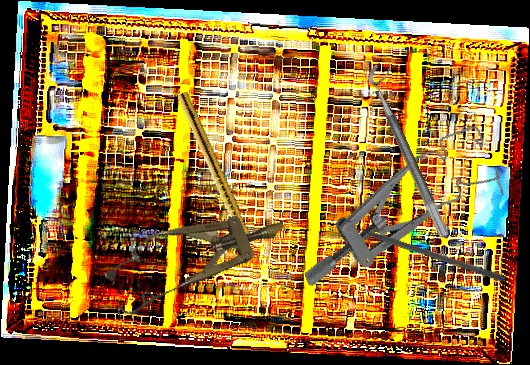Fixation Ring: (363, 59, 465, 239)
Handpiece: (173, 91, 261, 262)
Pusher: (338, 217, 508, 284)
Speculum: (276, 123, 514, 289), (97, 191, 296, 322)
